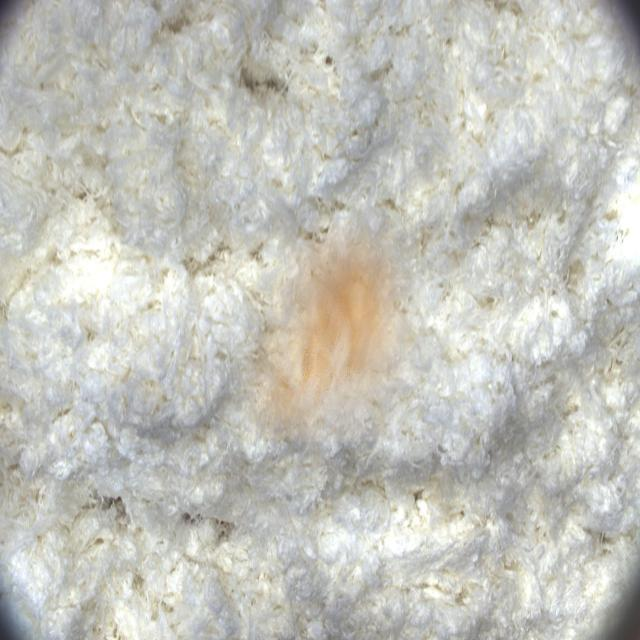dust: (238, 218, 426, 442)
